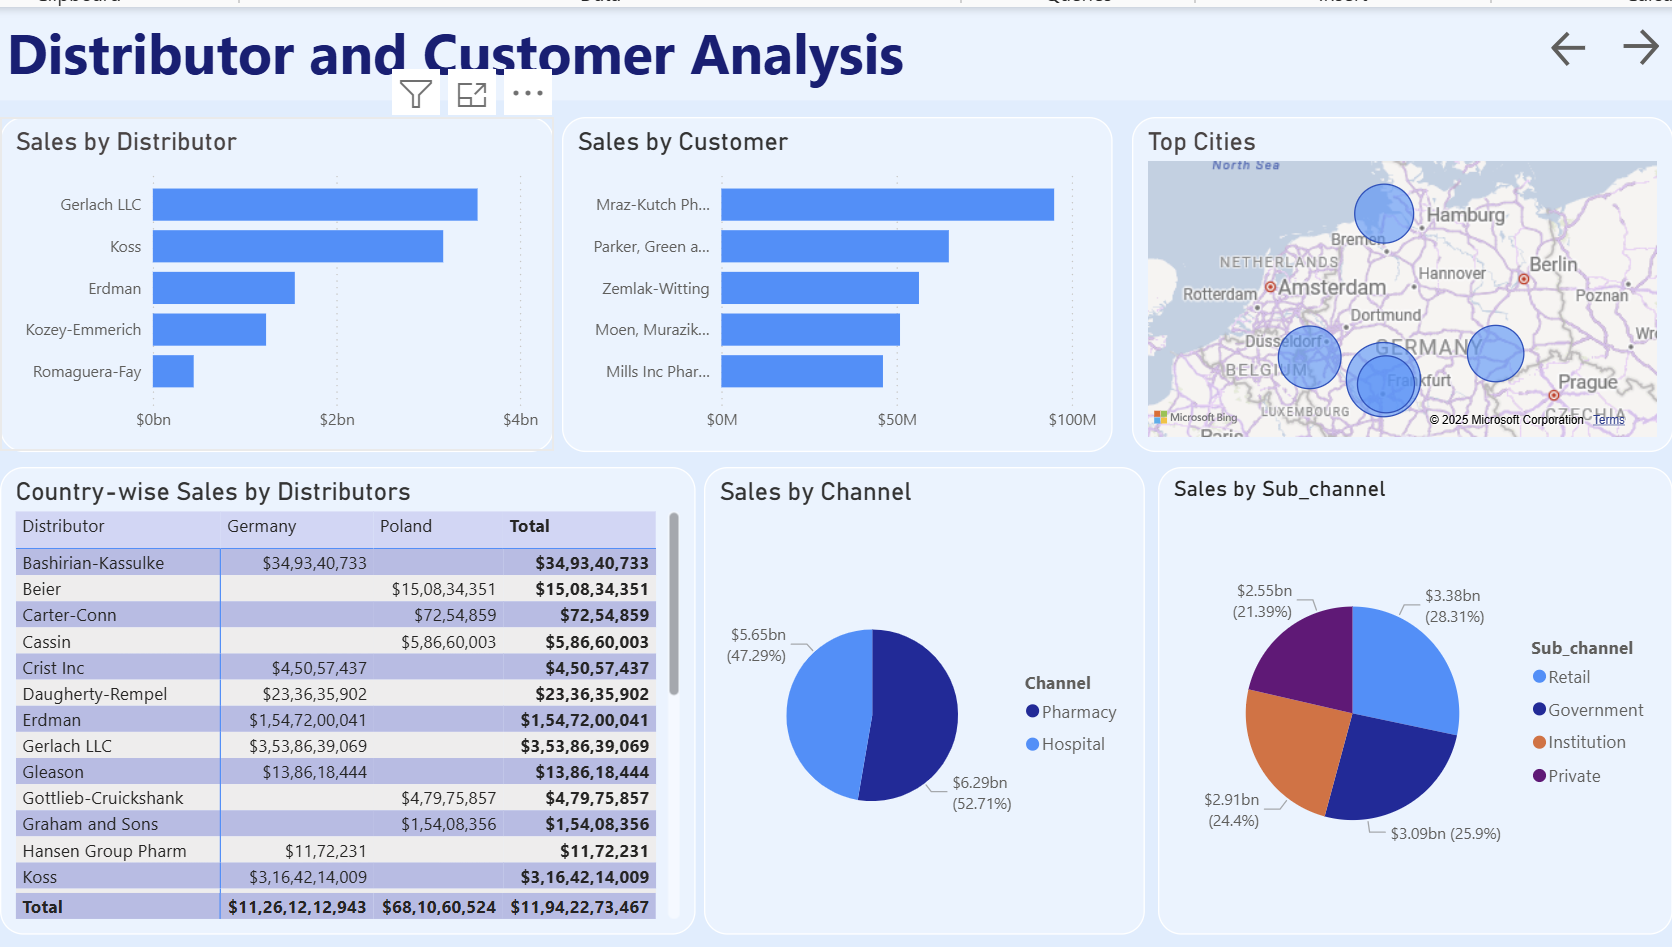

The dashboard page shown, as its layout file describes it:
{"tool":"powerbi","page":{"name":"Distributor and Customer Analysis","canvas":[1280,720],"ordinal":2},"visuals":[{"type":"textbox","box":[0,0,1280.3,71.4],"z":0},{"type":"actionButton","box":[1182.9,13.7,35.7,37],"z":1000},{"type":"actionButton","box":[1237.7,12.3,42.5,37],"z":2000},{"type":"barChart","title":"Sales by Distributor","fields":{"Category":["dim_distributor.Distributor"],"Y":["fact_sales.Sales"]},"box":[0,83.7,424,256.6],"z":3000},{"type":"barChart","title":"Sales by Customer","fields":{"Category":["dim_customer.Customer_Name"],"Y":["fact_sales.Sales"]},"box":[430.9,83.7,421.3,256.6],"z":4000},{"type":"map","title":"Top Cities","fields":{"Size":["fact_sales.Sales"],"Category":["dim_city.City"]},"box":[865.9,83.7,414.4,256.6],"z":5000},{"type":"pivotTable","title":"Country-wise Sales by Distributors","fields":{"Rows":["dim_distributor.Distributor"],"Columns":["dim_country.Country"],"Values":["fact_sales.Sales"]},"box":[0,352.7,532.4,358.1],"z":6000},{"type":"pieChart","title":" Sales by Sub_channel","fields":{"Y":["fact_sales.Sales"],"Category":["dim_subchannel.Sub_channel"]},"box":[886.5,352.7,393.8,358.1],"z":7000},{"type":"pieChart","title":"Sales by Channel","fields":{"Y":["fact_sales.Sales"],"Category":["dim_channel.Channel"]},"box":[539.3,352.7,337.6,358.1],"z":8000}]}

Visuals, with their boxes on the page's 1280x720 design canvas (x1, y1, x2, y2). These are canvas units, not pixel positions in the 1672x947 screenshot, which may show the page scaled, cropped or inside an application window:
textbox: {"left": 0, "top": 0, "right": 1280, "bottom": 71}
actionButton: {"left": 1183, "top": 14, "right": 1219, "bottom": 51}
actionButton: {"left": 1238, "top": 12, "right": 1280, "bottom": 49}
"Sales by Distributor" barChart: {"left": 0, "top": 84, "right": 424, "bottom": 340}
"Sales by Customer" barChart: {"left": 431, "top": 84, "right": 852, "bottom": 340}
"Top Cities" map: {"left": 866, "top": 84, "right": 1280, "bottom": 340}
"Country-wise Sales by Distributors" pivotTable: {"left": 0, "top": 353, "right": 532, "bottom": 711}
" Sales by Sub_channel" pieChart: {"left": 886, "top": 353, "right": 1280, "bottom": 711}
"Sales by Channel" pieChart: {"left": 539, "top": 353, "right": 877, "bottom": 711}
